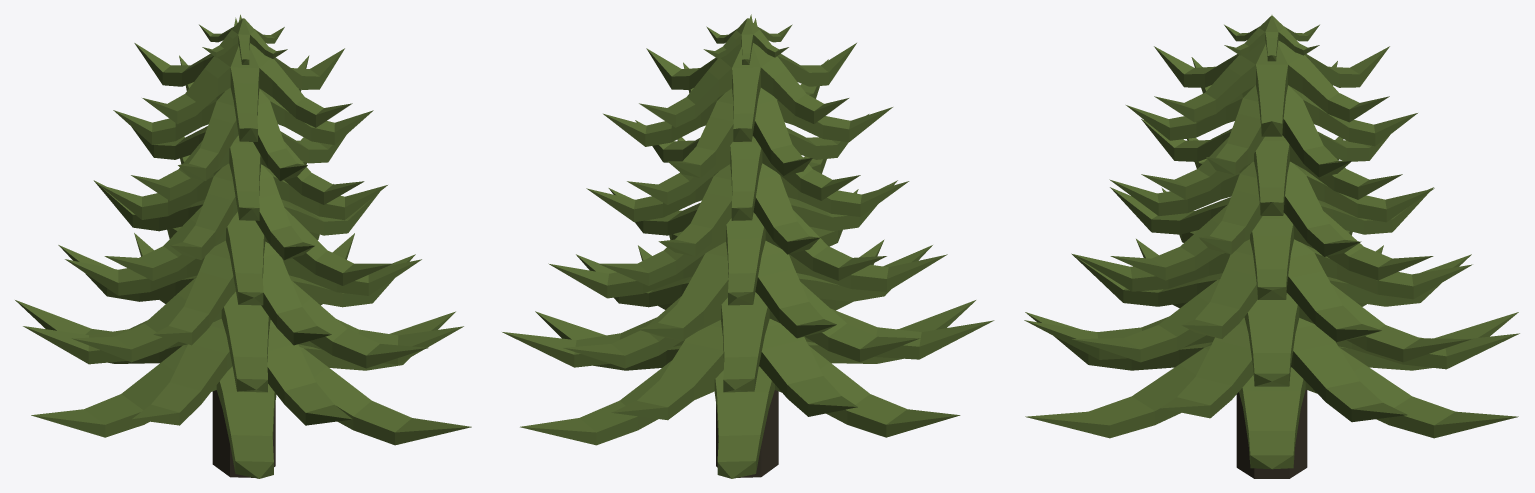
The model's file is SM_Pine_03.fbx.
3 views of the same model, side by side, from view 1: azimuth 30°, elevation 25°; view 2: azimuth 150°, elevation 25°; view 3: azimuth 270°, elevation 25° (orthographic).
Visible parts, largest first — view 1: Cilindro.002; view 2: Cilindro.002; view 3: Cilindro.002.
Boxes of the visible parts, left/top/right/bottom form: Cilindro.002: left=15, top=14, right=471, bottom=478; Cilindro.002: left=502, top=14, right=994, bottom=478; Cilindro.002: left=1024, top=15, right=1519, bottom=478.
Size of the model in its own units: 12 by 12.01 by 12.01.
